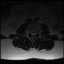CCS_normal: (32, 30, 34, 38)
LFS_normal: (36, 29, 38, 36)
LLS_normal: (34, 30, 36, 37)
RFS_normal: (29, 28, 31, 35)
RLS_normal: (31, 30, 32, 37)
